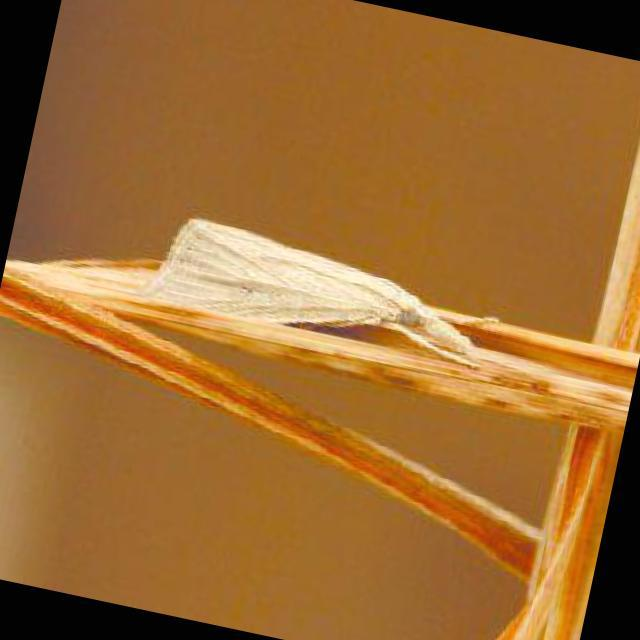stem borer: (141, 218, 474, 363)
